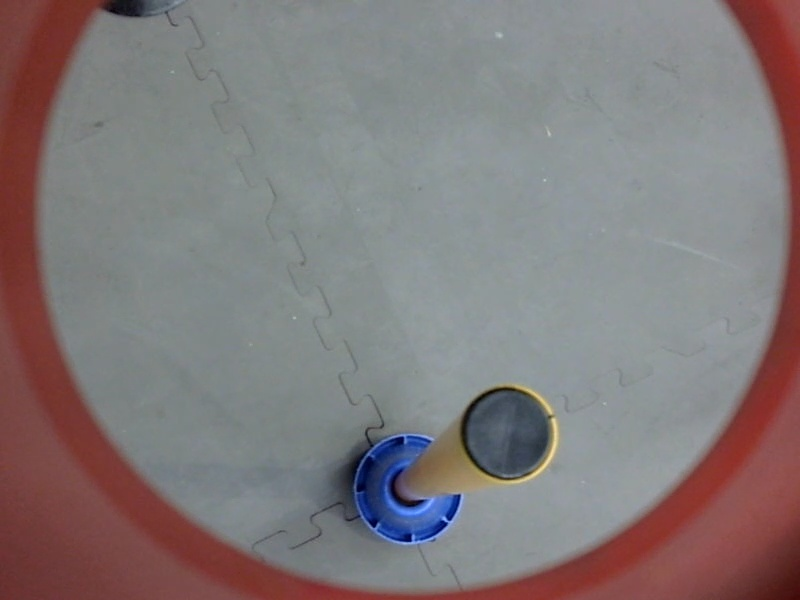tip: (452, 373, 566, 491)
